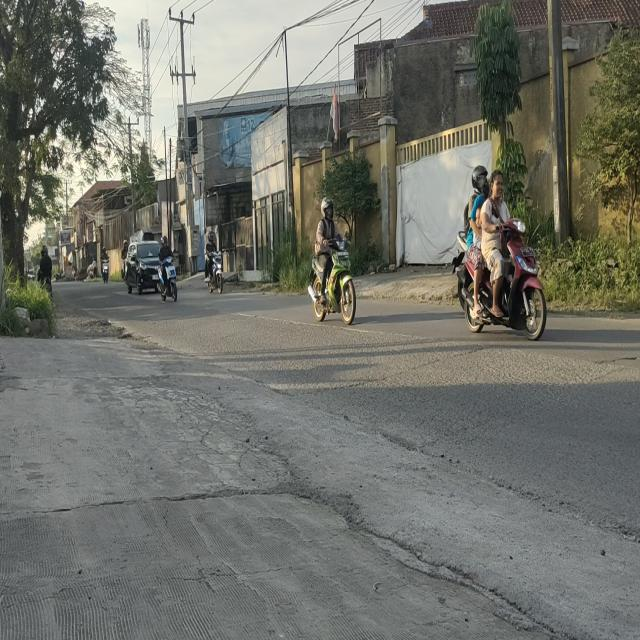helmet: (472, 164, 488, 191), (321, 198, 334, 219), (208, 230, 215, 242), (161, 235, 168, 246)
no-helmet: (491, 172, 504, 200)
